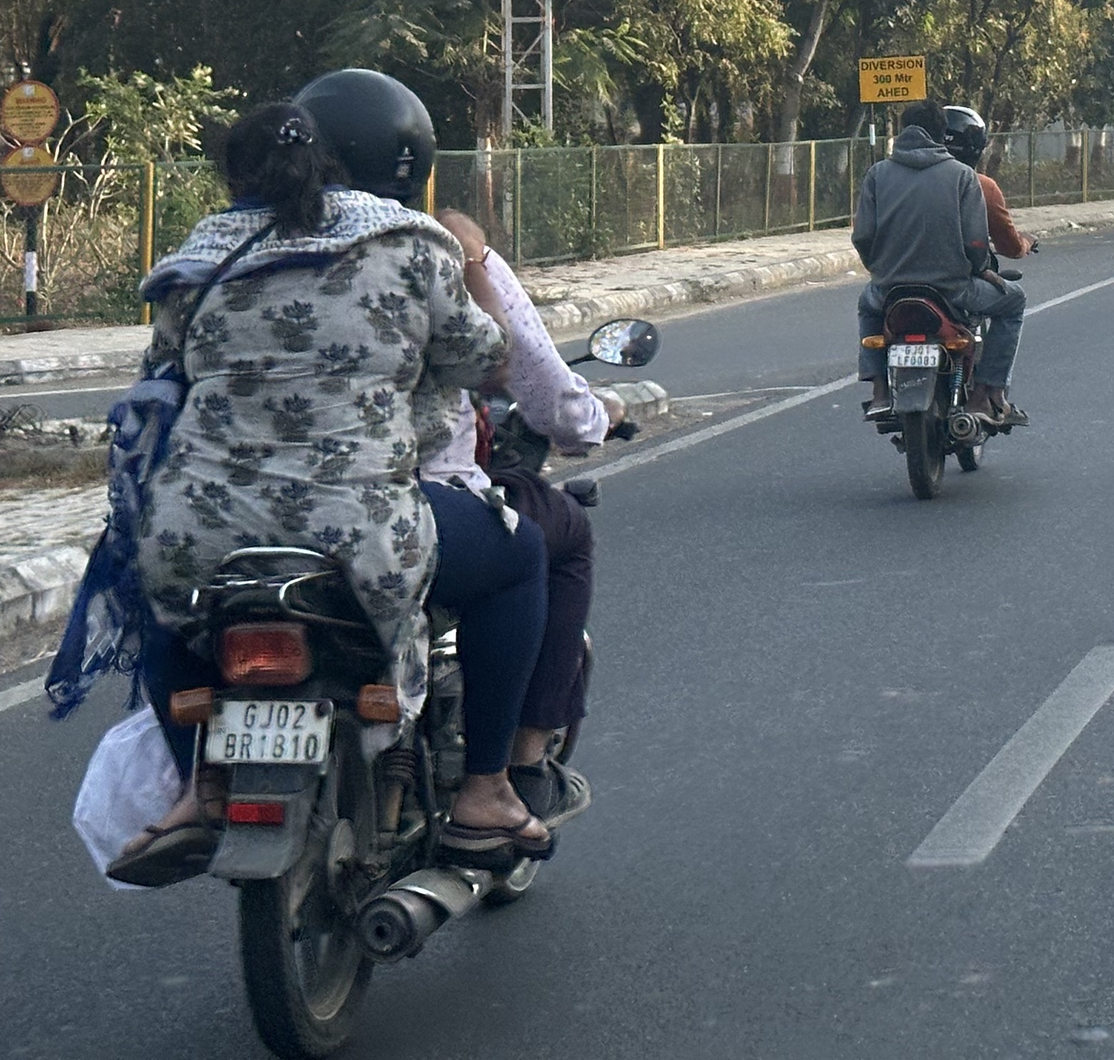BikeWithRider: (30, 56, 674, 1060), (837, 89, 1048, 509)
Helmet: (279, 57, 449, 221), (932, 97, 997, 177)
NoHelmet: (204, 92, 346, 222), (891, 95, 954, 154)
